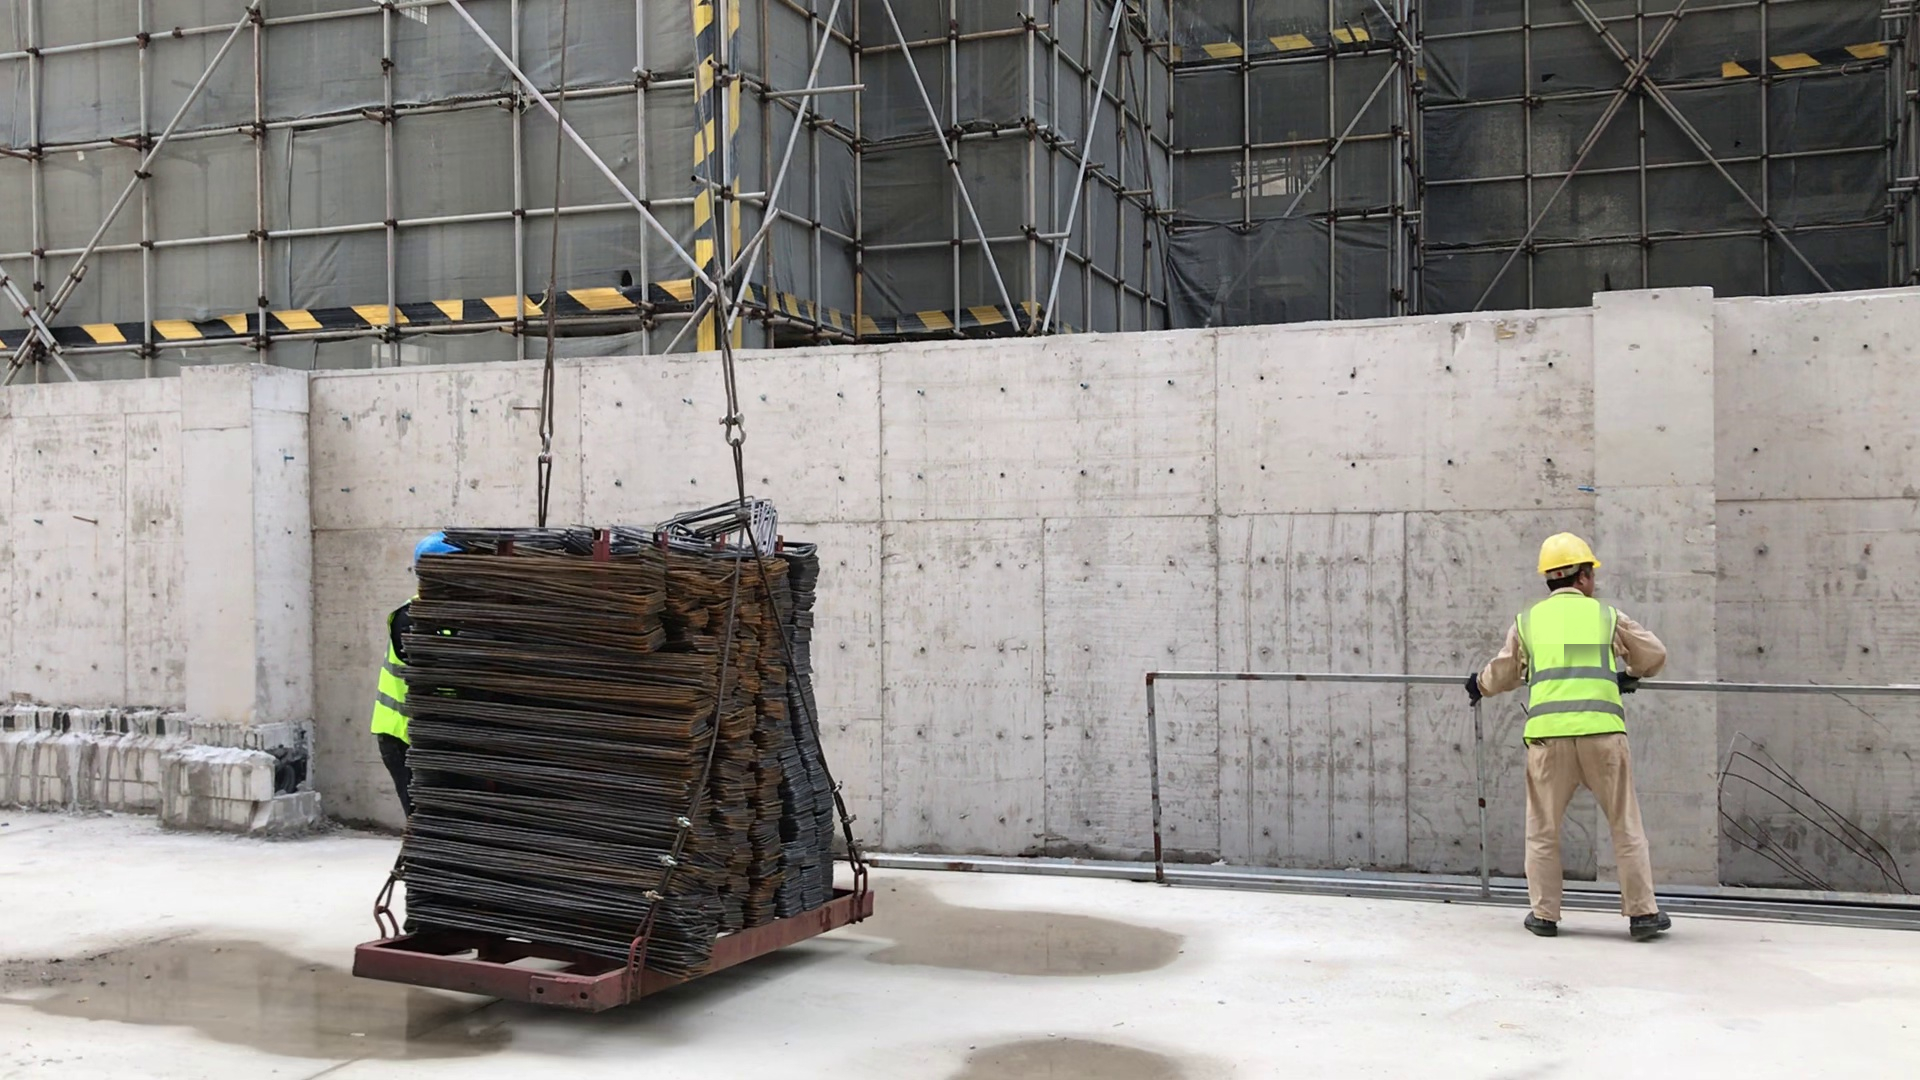helmet: (1530, 528, 1619, 586), (411, 518, 469, 573)
person: (1482, 514, 1677, 942), (372, 536, 460, 846)
vest: (1504, 605, 1635, 748), (375, 636, 416, 743)
